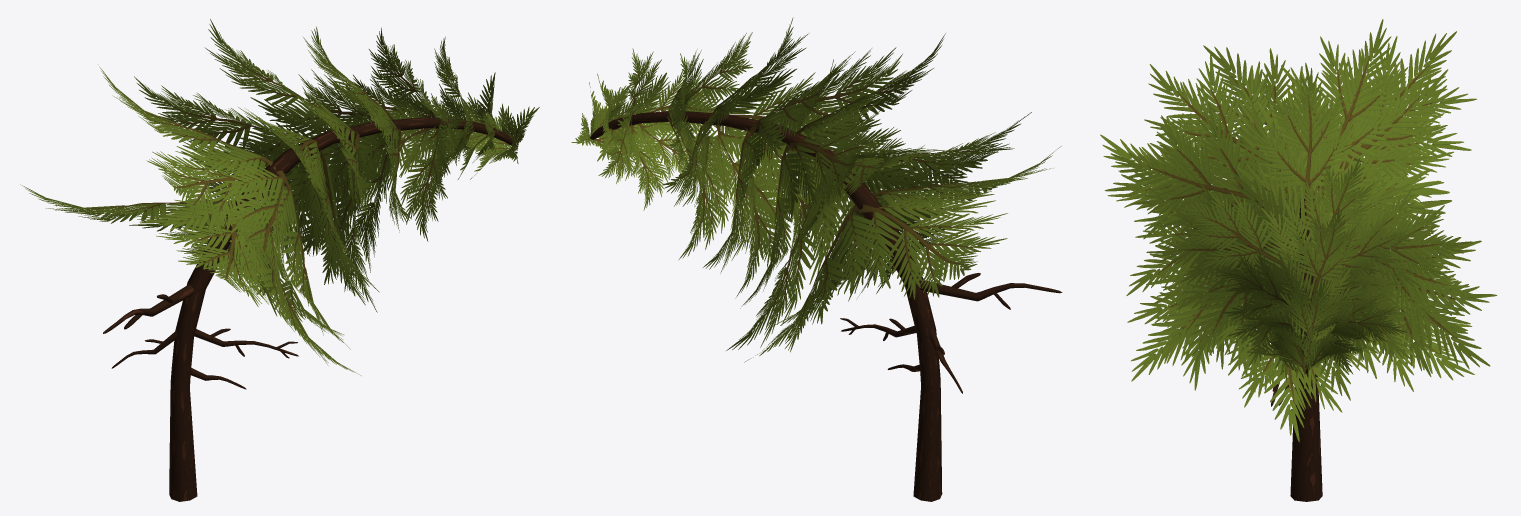
File: pine_tree_4.glb
3 views of the same model, side by side, from view 1: azimuth 30°, elevation 25°; view 2: azimuth 150°, elevation 25°; view 3: azimuth 270°, elevation 25° (orthographic). The views are drawn at different scales.
Parts seen in each view (by area): view 1: PineTree_42; view 2: PineTree_42; view 3: PineTree_42.
Part boxes in pixels (x1,y1,x2,y2): PineTree_42: (20,19,539,501); PineTree_42: (571,17,1062,501); PineTree_42: (1100,19,1497,501).
Bounding box in the file's own units: 4.84 × 4.48 × 3.25.
2 materials, 2 textured.
